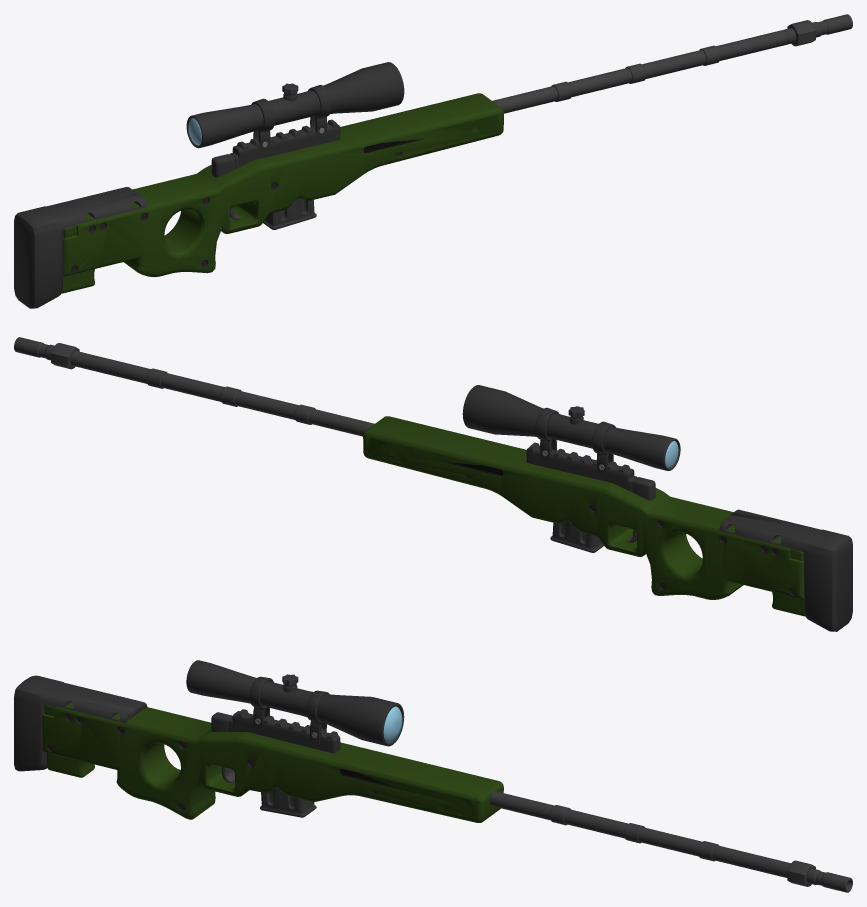
Rendered from awp_.fbx.
The picture shows the model from 3 angles, top to bottom: view 1: azimuth 30°, elevation 25°; view 2: azimuth 150°, elevation 25°; view 3: azimuth 330°, elevation 25°; orthographic projection.
Visible parts, largest first — view 1: Cube.040, Cube.042, Cylinder.013, Cylinder.017, Cube.043, Cube.044, Cylinder.014, Cylinder.015; view 2: Cube.040, Cube.042, Cylinder.013, Cylinder.017, Cube.043, Cube.044, Cylinder.014, Cylinder.015; view 3: Cube.040, Cylinder.013, Cylinder.017, Cube.042, Cube.043, Cube.044, Cylinder.015, Cylinder.014.
Part boxes in pixels (x1=…): Cube.040: x1=61, y1=93, x2=503, y2=293; Cube.042: x1=14, y1=187, x2=147, y2=308; Cylinder.013: x1=186, y1=62, x2=404, y2=148; Cylinder.017: x1=492, y1=14, x2=852, y2=113; Cube.043: x1=211, y1=119, x2=340, y2=177; Cube.044: x1=263, y1=198, x2=316, y2=229; Cylinder.014: x1=308, y1=85, x2=331, y2=137; Cylinder.015: x1=251, y1=98, x2=274, y2=151; Cube.040: x1=363, y1=416, x2=805, y2=616; Cube.042: x1=719, y1=509, x2=852, y2=631; Cylinder.013: x1=462, y1=385, x2=680, y2=470; Cylinder.017: x1=14, y1=337, x2=374, y2=436; Cube.043: x1=526, y1=442, x2=655, y2=500; Cube.044: x1=550, y1=521, x2=603, y2=552; Cylinder.014: x1=535, y1=407, x2=559, y2=460; Cylinder.015: x1=592, y1=421, x2=615, y2=474; Cube.040: x1=42, y1=701, x2=503, y2=822; Cylinder.013: x1=186, y1=660, x2=404, y2=746; Cylinder.017: x1=490, y1=791, x2=852, y2=892; Cube.042: x1=14, y1=675, x2=147, y2=771; Cube.043: x1=211, y1=709, x2=340, y2=753; Cube.044: x1=260, y1=788, x2=316, y2=817; Cylinder.015: x1=249, y1=676, x2=273, y2=728; Cylinder.014: x1=306, y1=690, x2=329, y2=742.
Bounding box in the file's own units: 562 × 102 × 28.01.
2 materials, 2 textured.
